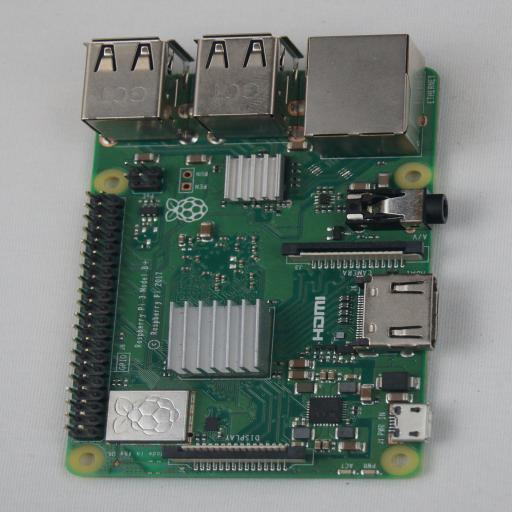Raspberry Pi 3 B-: (67, 33, 448, 479)
